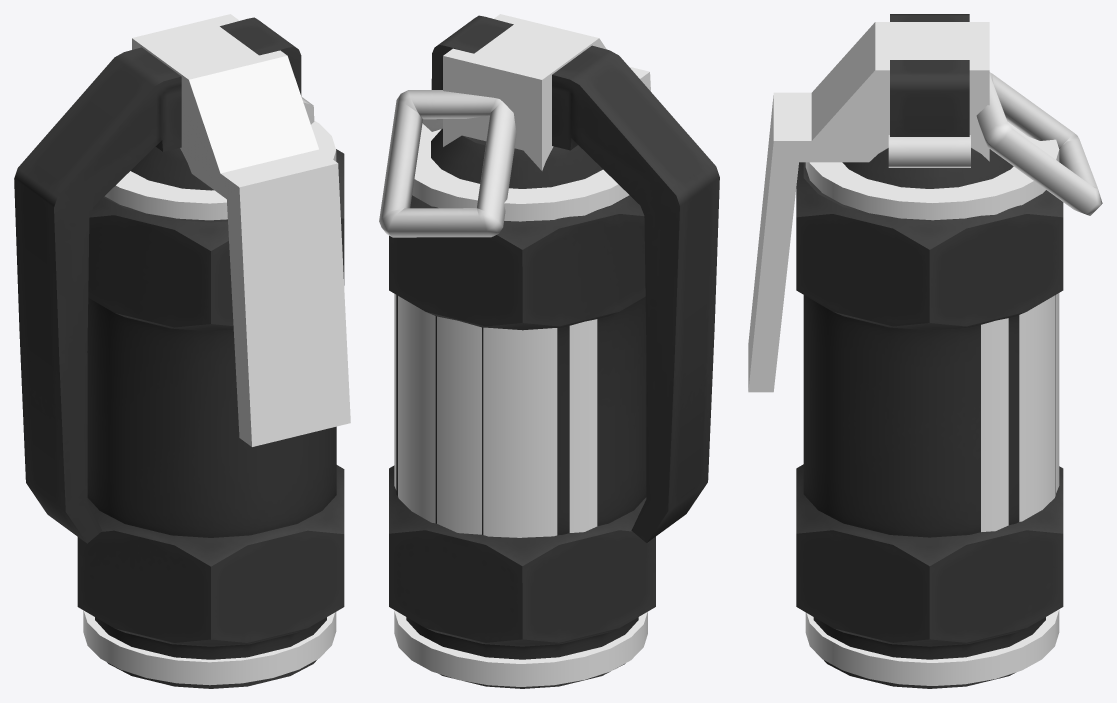
Rendered from Grenade_Fire.fbx.
The picture shows the model from 3 angles, left to right: view 1: azimuth 30°, elevation 25°; view 2: azimuth 150°, elevation 25°; view 3: azimuth 270°, elevation 25°; orthographic projection.
Visible parts, largest first — view 1: SM_Ammunition_9, Mesh2_Group3_Group1_Model, Mesh1_Group2_Group1_Model; view 2: SM_Ammunition_9, Mesh1_Group2_Group1_Model, Mesh2_Group3_Group1_Model; view 3: SM_Ammunition_9, Mesh1_Group2_Group1_Model, Mesh2_Group3_Group1_Model.
Boxes of the visible parts, x1,y1,x2,y2 form: SM_Ammunition_9: (14, 17, 344, 688); Mesh2_Group3_Group1_Model: (132, 14, 350, 446); Mesh1_Group2_Group1_Model: (83, 121, 336, 685); SM_Ammunition_9: (379, 15, 719, 688); Mesh1_Group2_Group1_Model: (394, 123, 647, 686); Mesh2_Group3_Group1_Model: (443, 14, 650, 170); SM_Ammunition_9: (796, 14, 1102, 688); Mesh1_Group2_Group1_Model: (805, 122, 1059, 685); Mesh2_Group3_Group1_Model: (748, 22, 989, 392).
Size of the model in its own units: 0.3044 by 0.5548 by 0.3001.
